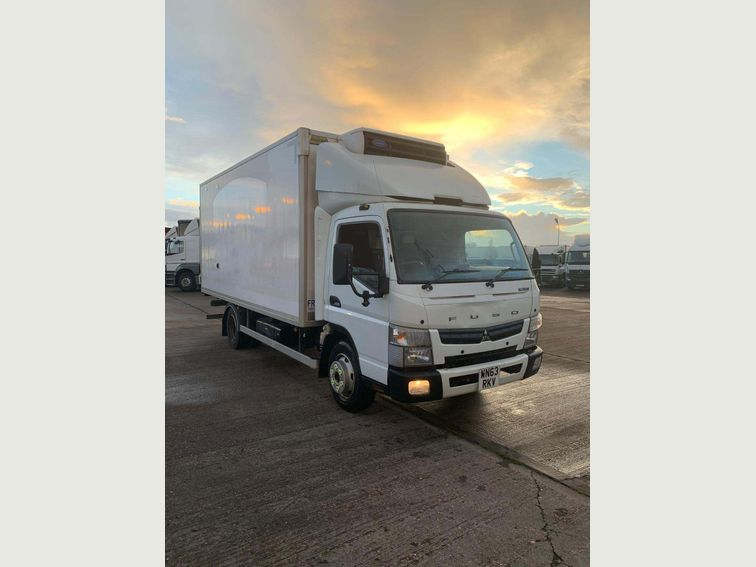Semi: (198, 126, 543, 412)
